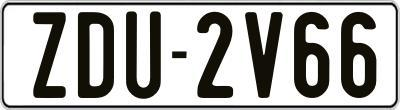2: (197, 10, 236, 96)
6: (294, 10, 331, 98), (338, 10, 374, 99)
D: (77, 11, 118, 98)
U: (123, 11, 163, 100)
V: (244, 10, 287, 98)
Z: (31, 10, 67, 97)
